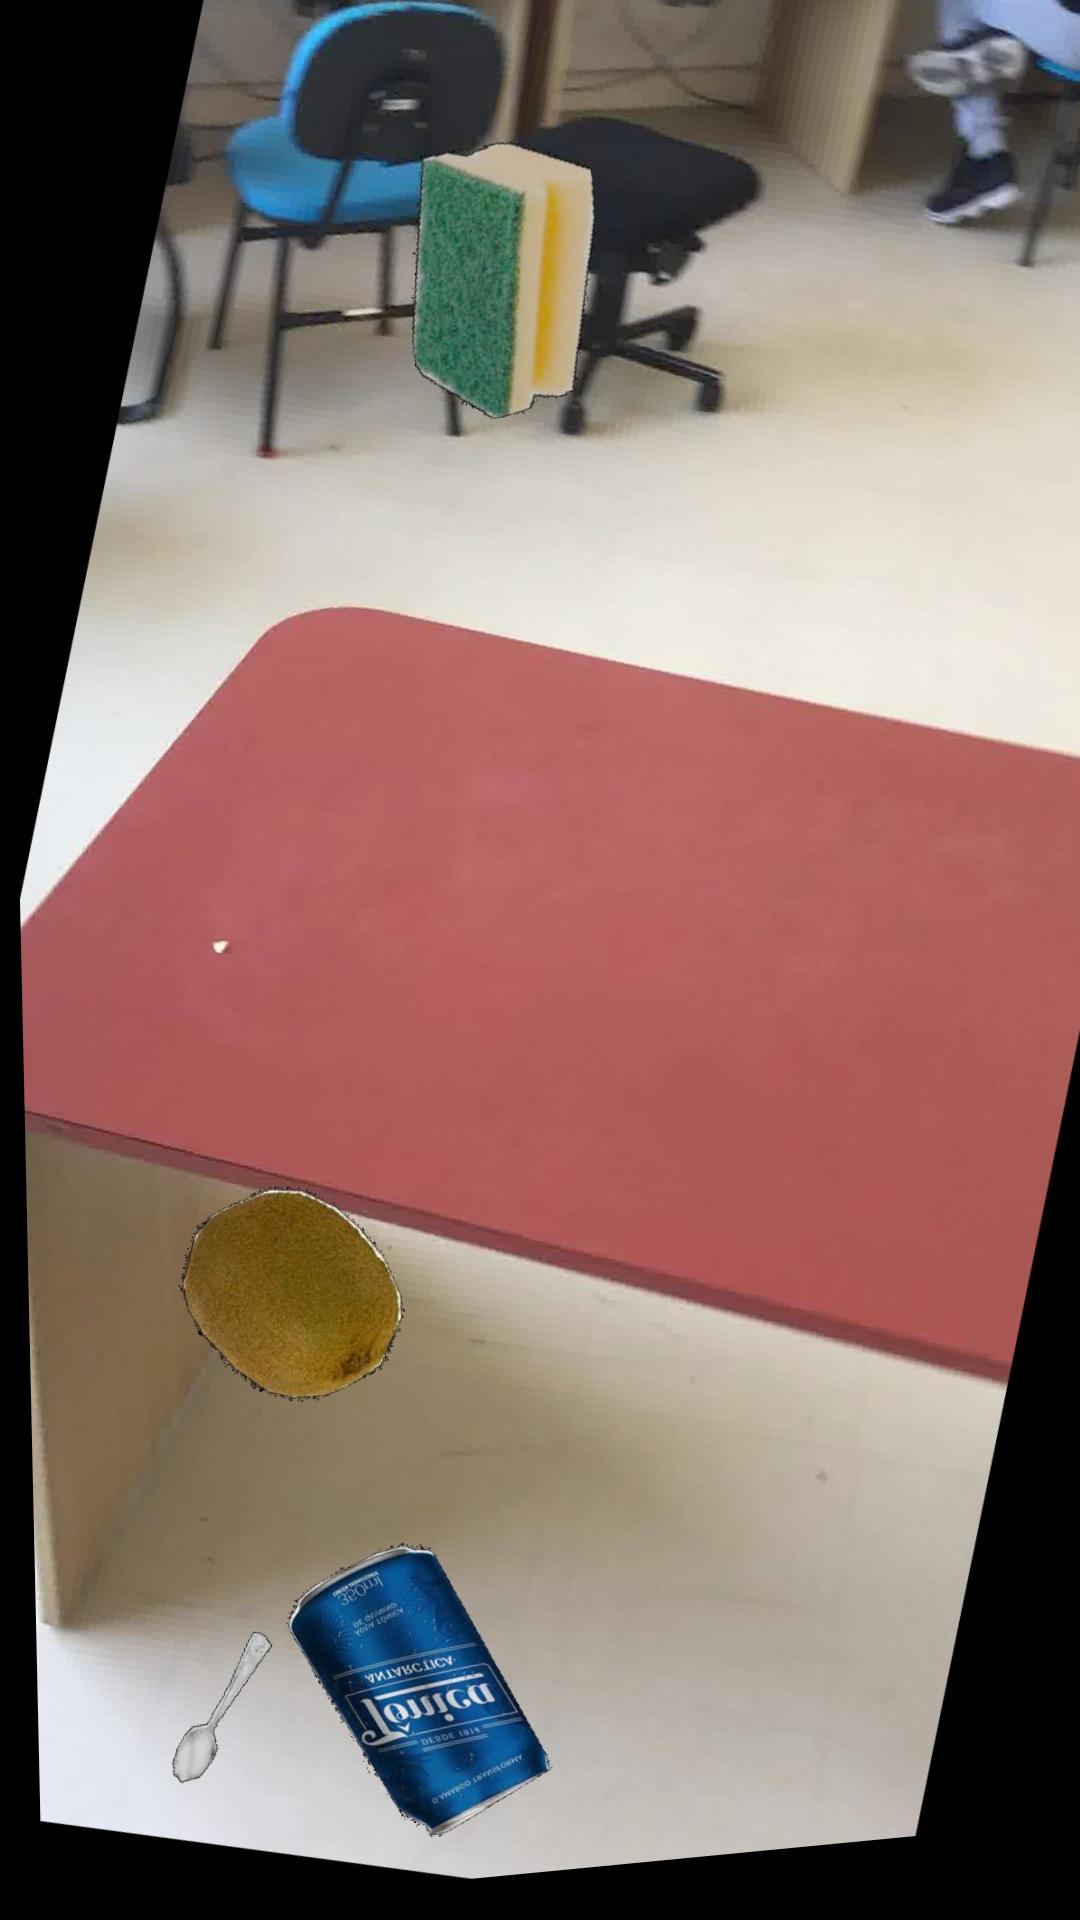kiwi: (177, 1192, 400, 1404)
sponge: (411, 150, 596, 426)
spoon: (166, 1634, 266, 1784)
tonic: (282, 1551, 543, 1842)
